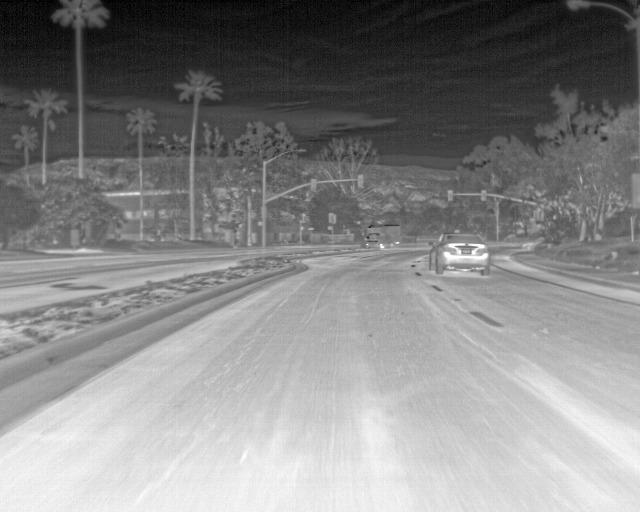car: (428, 231, 491, 274), (364, 224, 402, 249)
light: (481, 190, 486, 201), (448, 190, 453, 201), (538, 210, 543, 220), (358, 176, 362, 187), (312, 179, 316, 190)
sign: (71, 229, 79, 245), (261, 206, 267, 218), (329, 213, 333, 223), (333, 215, 336, 223)
